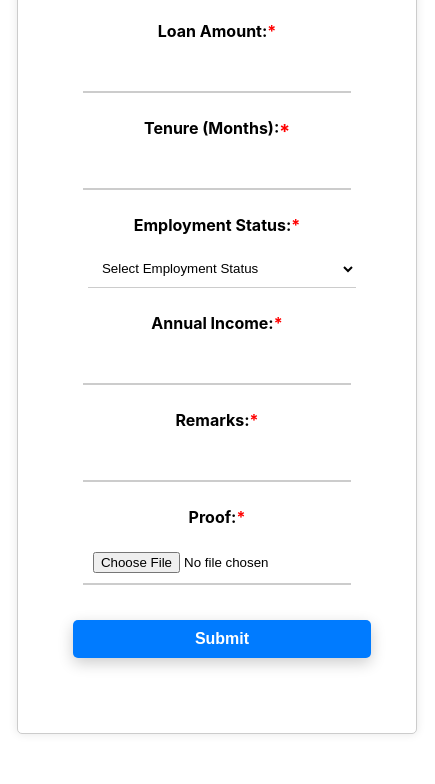
LoanApplicationForm Component › frontend_loanapplicationform_customer_component_displays_required_validation_messages
(page scrolled)
Click the button "Submit" at (222, 639), box left=73, top=620, right=371, bottom=658
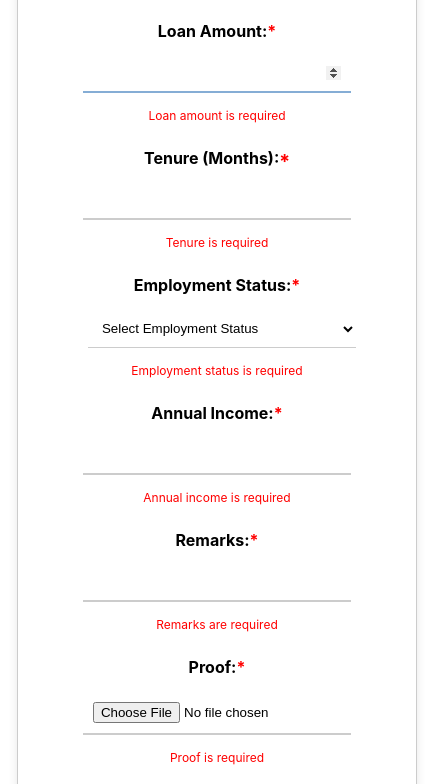
Expected: the text "Loan amount is required" is shown, left=148, top=108, right=286, bottom=123
Expected: the text "Tenure is required" is shown, left=166, top=235, right=268, bottom=250
Expected: the text "Employment status is required" is shown, left=131, top=363, right=303, bottom=378
